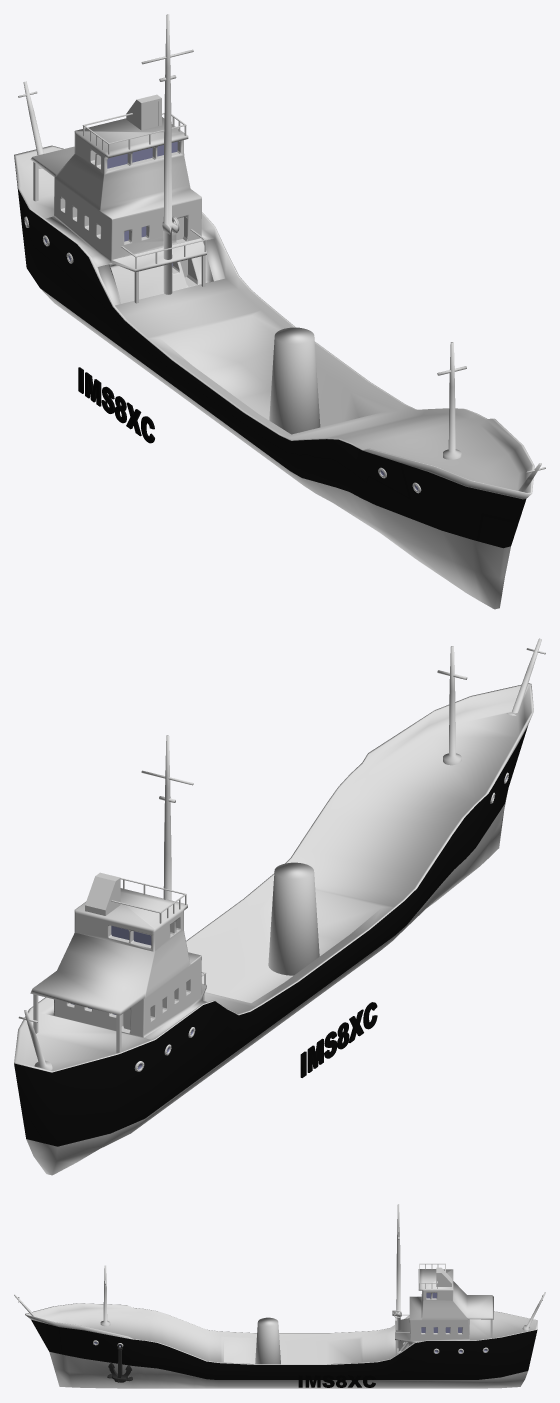
File: D3_Ship4.glb
3 views of the same model, one above another, from view 1: azimuth 30°, elevation 25°; view 2: azimuth 150°, elevation 25°; view 3: azimuth 270°, elevation 25° (orthographic). The views are drawn at different scales.
Visible parts, largest first — view 1: Object_6, Object_2, Cylinder, Text.001, Object_4; view 2: Object_6, Object_2, Cylinder, Text.001; view 3: Object_6, Object_2, Cylinder, Text, osnova_low.
Boxes of the visible parts, box(x1,y1,x2,y2) form: Object_6: box(14, 14, 545, 609); Object_2: box(15, 164, 526, 548); Cylinder: box(269, 327, 320, 434); Text.001: box(78, 367, 154, 443); Object_4: box(26, 141, 418, 490); Object_6: box(14, 638, 545, 1175); Object_2: box(14, 726, 527, 1146); Cylinder: box(268, 862, 319, 975); Text.001: box(300, 1002, 377, 1077); Object_6: box(14, 1204, 545, 1388); Object_2: box(31, 1319, 537, 1379); Cylinder: box(255, 1317, 280, 1364); Text: box(298, 1375, 375, 1387); osnova_low: box(107, 1362, 132, 1382).
Bounding box in the file's own units: 8.91 × 16.34 × 43.39.
Materials: 6 (1 with a texture image).
